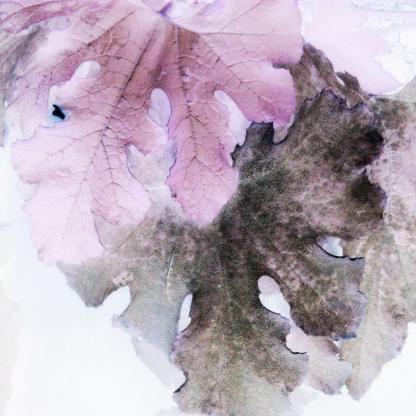squash powdery mildew leaf: (50, 48, 408, 416)
